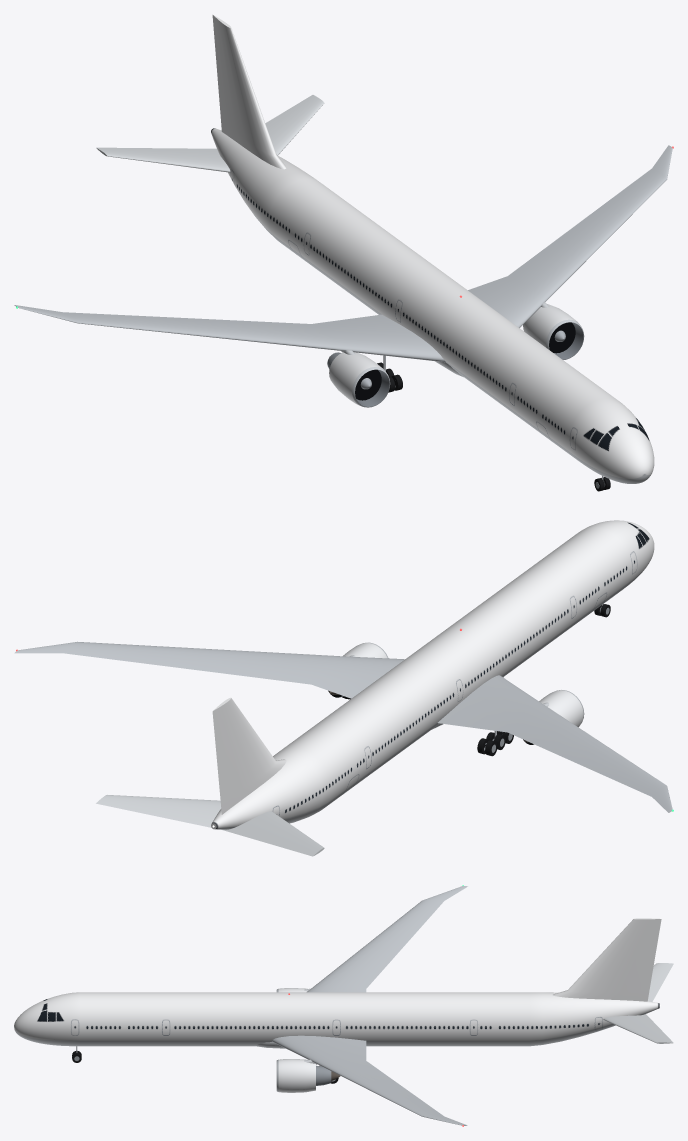
3 views of the same model, one above another, from view 1: azimuth 30°, elevation 25°; view 2: azimuth 150°, elevation 25°; view 3: azimuth 270°, elevation 25° (orthographic). The views are drawn at different scales.
Parts seen in each view (by area): view 1: body; view 2: body, gear; view 3: body.
Boxes of the visible parts, box(x1,y1,x2,y2) form: body: box(14, 15, 673, 483); body: box(14, 520, 673, 856); gear: box(477, 604, 610, 756); body: box(14, 885, 673, 1126).
Size of the model in its own units: 65.12 by 17.96 by 75.49.
19 materials, 1 textured.
